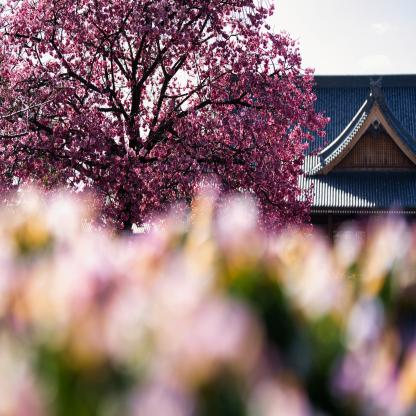KanhiSakura: (0, 0, 330, 246)
